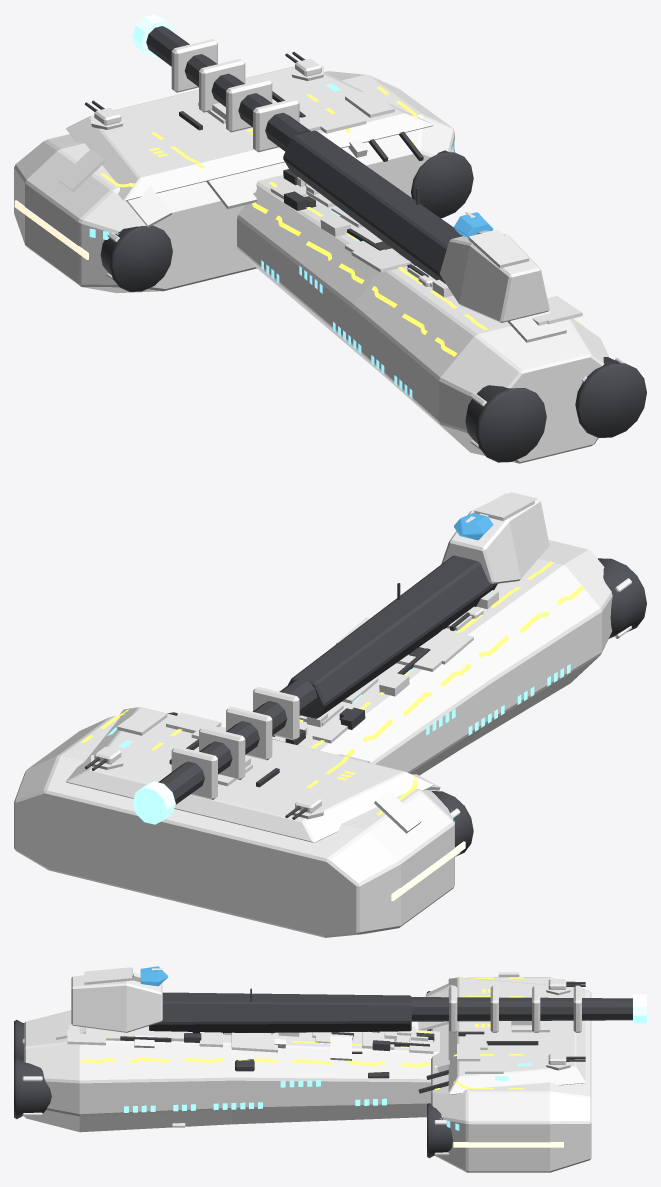
File: molot.glb
3 views of the same model, one above another, from view 1: azimuth 30°, elevation 25°; view 2: azimuth 150°, elevation 25°; view 3: azimuth 270°, elevation 25° (orthographic). The views are drawn at different scales.
Visible parts, largest first — view 1: Рукоять, Голова_молота, Плита_головы, Накладные_плиты, Калибр_кожух, Рубка, Кожух_дюзы.002, Кожух_дюзы, Кожух_дюзы.003, Главный_калибр, Кожух_дюзы.001, Разметка (+8 smaller); view 2: Голова_молота, Рукоять, Плита_головы, Калибр_кожух, Накладные_плиты, Рубка, Главный_калибр, Разметка, Кожух_дюзы.002, Дуло, Кольцо_калибра.003, Механика (+7 smaller); view 3: Рукоять, Голова_молота, Калибр_кожух, Плита_головы, Накладные_плиты, Главный_калибр, Рубка, Разметка, Кожух_дюзы, Механика, Решётки, Кожух_дюзы.001 (+8 smaller).
Boxes of the visible parts, x1,y1,x2,y2 form: Рукоять: (237, 175, 609, 463); Голова_молота: (14, 71, 454, 293); Плита_головы: (66, 67, 433, 201); Накладные_плиты: (58, 90, 582, 342); Калибр_кожух: (283, 130, 462, 283); Рубка: (439, 234, 549, 322); Кожух_дюзы.002: (465, 385, 546, 462); Кожух_дюзы: (575, 357, 646, 437); Кожух_дюзы.003: (100, 225, 172, 291); Главный_калибр: (146, 26, 310, 151); Кожух_дюзы.001: (411, 150, 473, 218); Разметка: (100, 87, 583, 356); Голова_молота: (14, 716, 454, 937); Рукоять: (297, 540, 612, 775); Плита_головы: (66, 707, 433, 842); Калибр_кожух: (288, 555, 497, 718); Накладные_плиты: (117, 493, 534, 833); Рубка: (441, 492, 549, 583); Главный_калибр: (158, 678, 317, 804); Разметка: (80, 561, 584, 815); Кожух_дюзы.002: (598, 558, 646, 638); Дуло: (132, 781, 175, 824); Кольцо_калибра.003: (171, 746, 217, 799); Механика: (167, 583, 469, 787); Рукоять: (24, 1010, 439, 1132); Голова_молота: (431, 977, 591, 1172); Калибр_кожух: (149, 992, 411, 1033); Плита_головы: (448, 977, 585, 1094); Накладные_плиты: (55, 967, 549, 1073); Главный_калибр: (411, 997, 632, 1021); Рубка: (71, 972, 162, 1032); Разметка: (81, 976, 523, 1089); Кожух_дюзы: (14, 1057, 51, 1119); Механика: (120, 988, 538, 1093); Решётки: (124, 1063, 531, 1130); Кожух_дюзы.001: (427, 1103, 452, 1158).
Size of the model in its own units: 1.21 by 0.5887 by 2.29.
